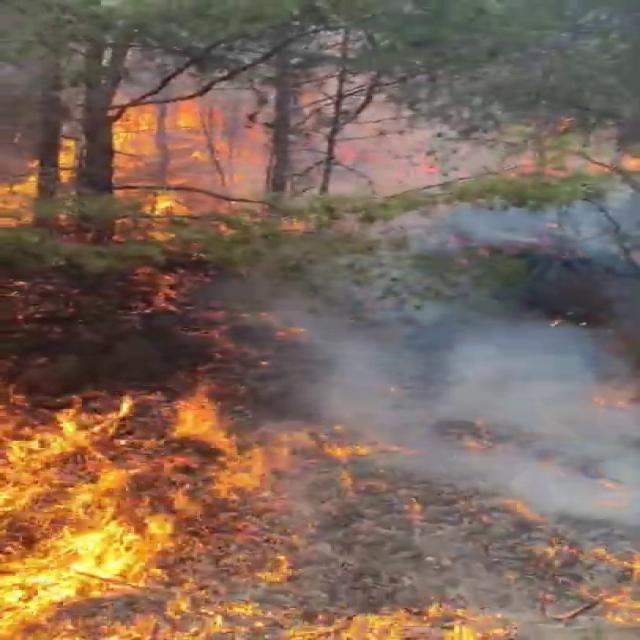Fire: (1, 371, 395, 640), (0, 86, 298, 310)
Smoke: (267, 255, 639, 533)
